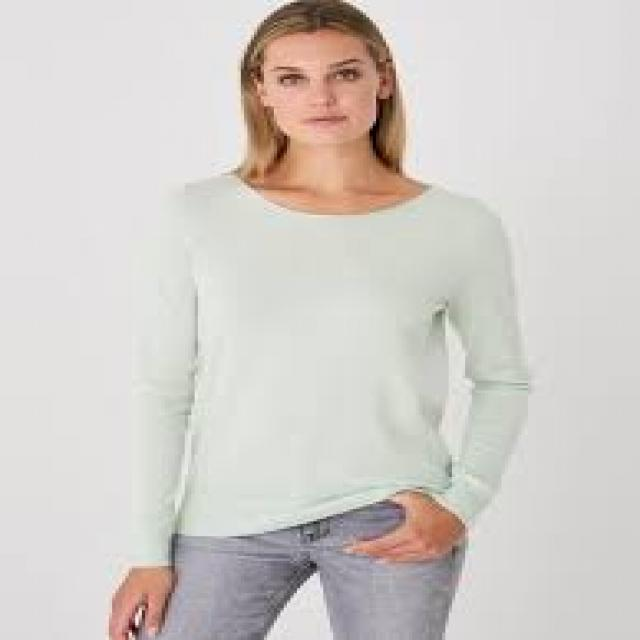plain: (119, 160, 534, 567)
